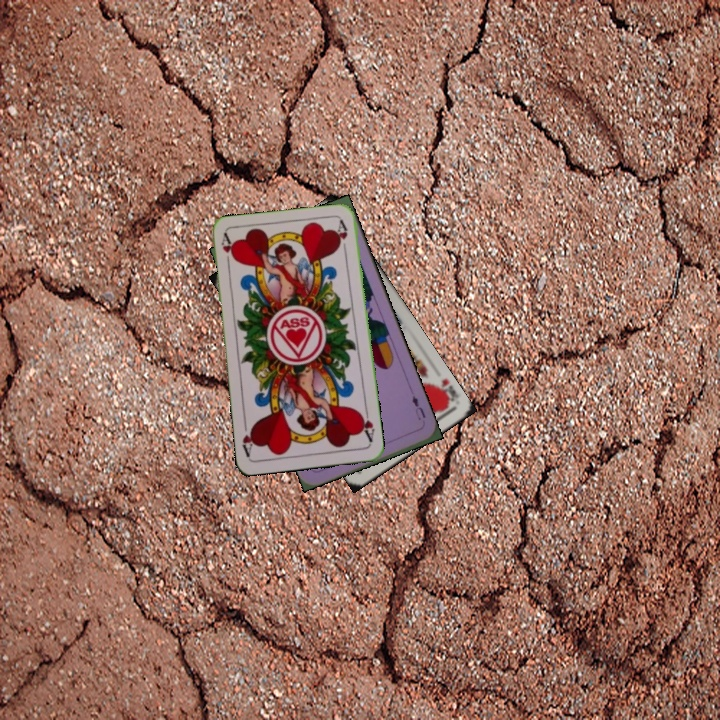EU: (408, 391, 428, 423)
HA: (355, 405, 377, 445), (217, 231, 237, 271)
HK: (429, 374, 462, 409)
